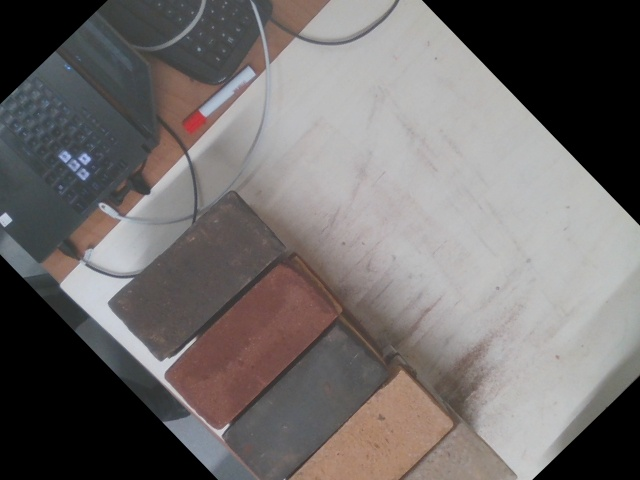brick: (108, 192, 282, 360), (163, 264, 332, 429), (220, 324, 389, 479), (284, 372, 453, 479), (344, 427, 513, 479)
